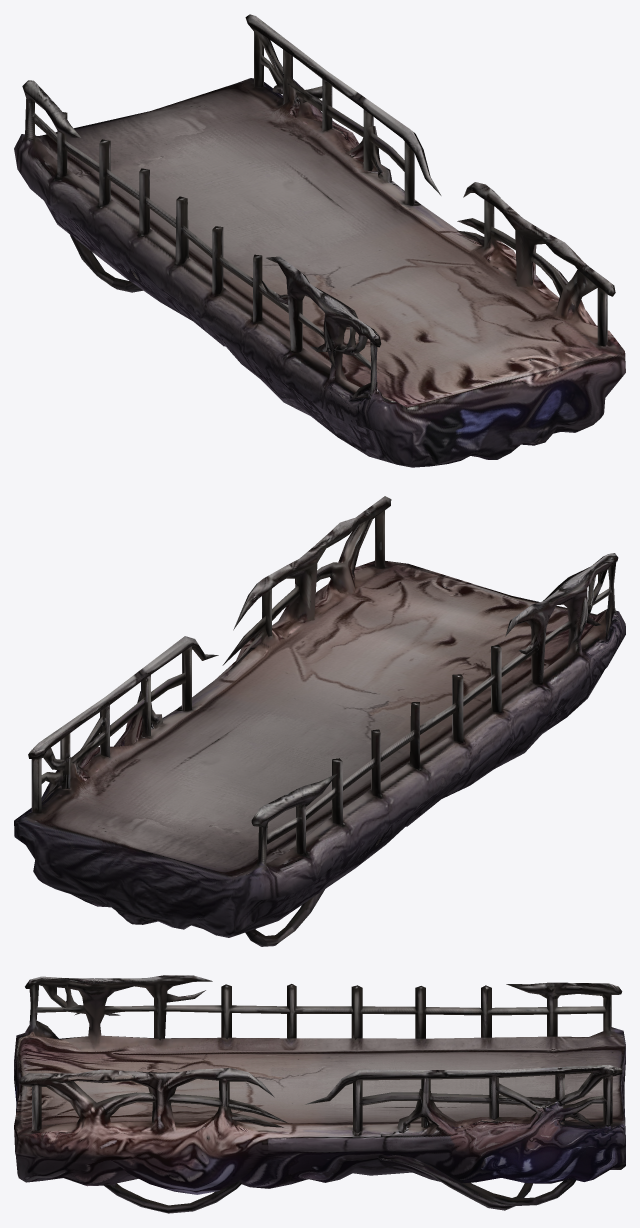
Rendered from tripo_convert_4619e38b-eb53-426c-a241-e9f197af66ae.fbx.
3 views of the same model, one above another, from view 1: azimuth 30°, elevation 25°; view 2: azimuth 150°, elevation 25°; view 3: azimuth 270°, elevation 25° (orthographic). The views are drawn at different scales.
Visible parts, largest first — view 1: tripo_node_4619e38b; view 2: tripo_node_4619e38b; view 3: tripo_node_4619e38b.
Part boxes in pixels (x1=…): tripo_node_4619e38b: x1=14, y1=14, x2=625, y2=467; tripo_node_4619e38b: x1=14, y1=496, x2=625, y2=946; tripo_node_4619e38b: x1=14, y1=975, x2=625, y2=1213.
Bounding box in the file's own units: 0.4355 × 0.2832 × 0.998.
1 material, 1 textured.
